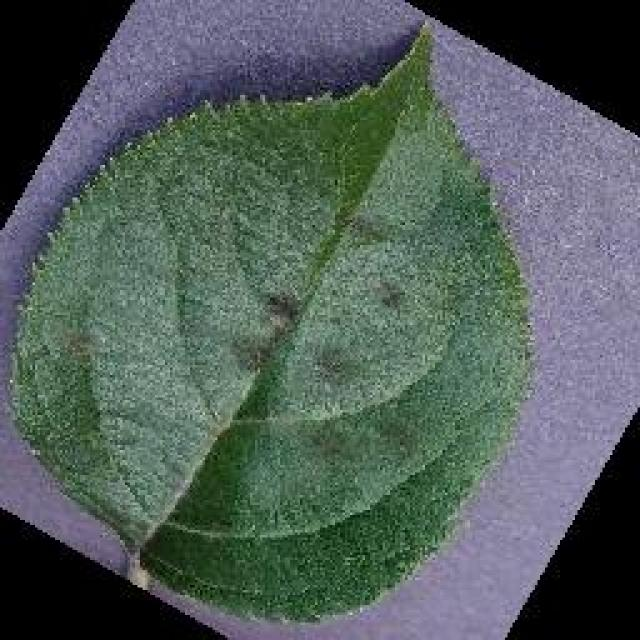apple scab disease: (5, 20, 537, 628)
